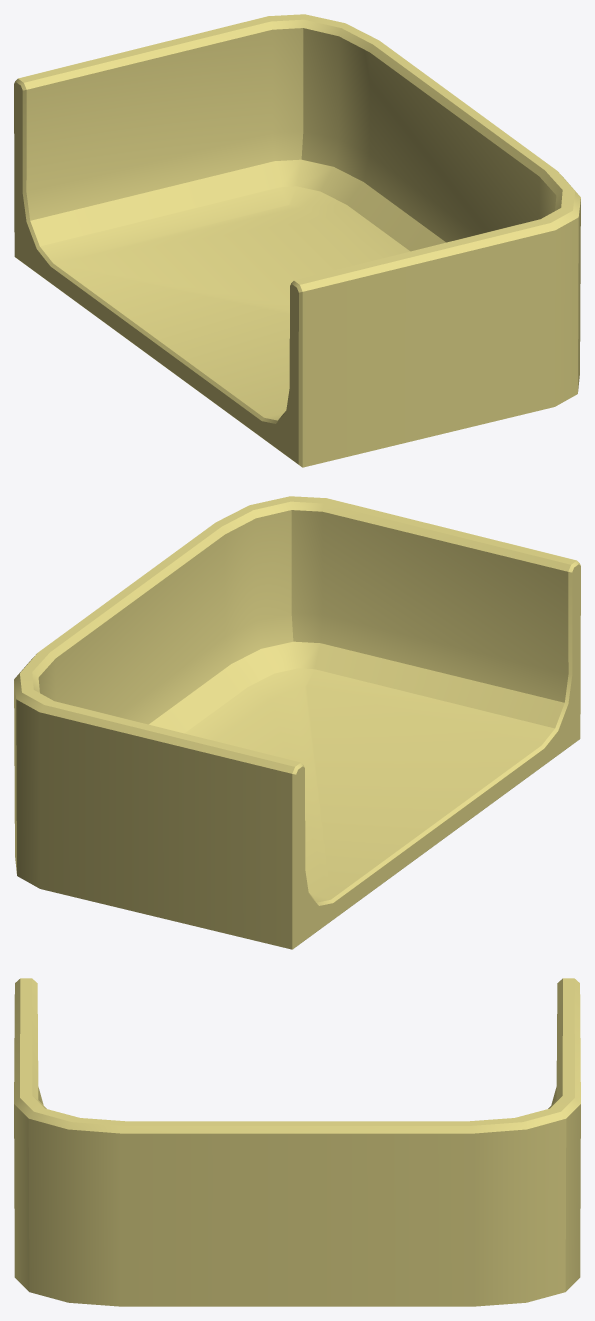
The model's file is tub.fbx.
3 views of the same model, one above another, from view 1: azimuth 30°, elevation 25°; view 2: azimuth 150°, elevation 25°; view 3: azimuth 270°, elevation 25° (orthographic).
Visible parts, largest first — view 1: tub; view 2: tub; view 3: tub.
Part boxes in pixels (left/top/right/bottom): tub: left=14, top=14, right=580, bottom=467; tub: left=14, top=496, right=580, bottom=949; tub: left=14, top=978, right=580, bottom=1306.
Size of the model in its own units: 152 by 83.72 by 239.
